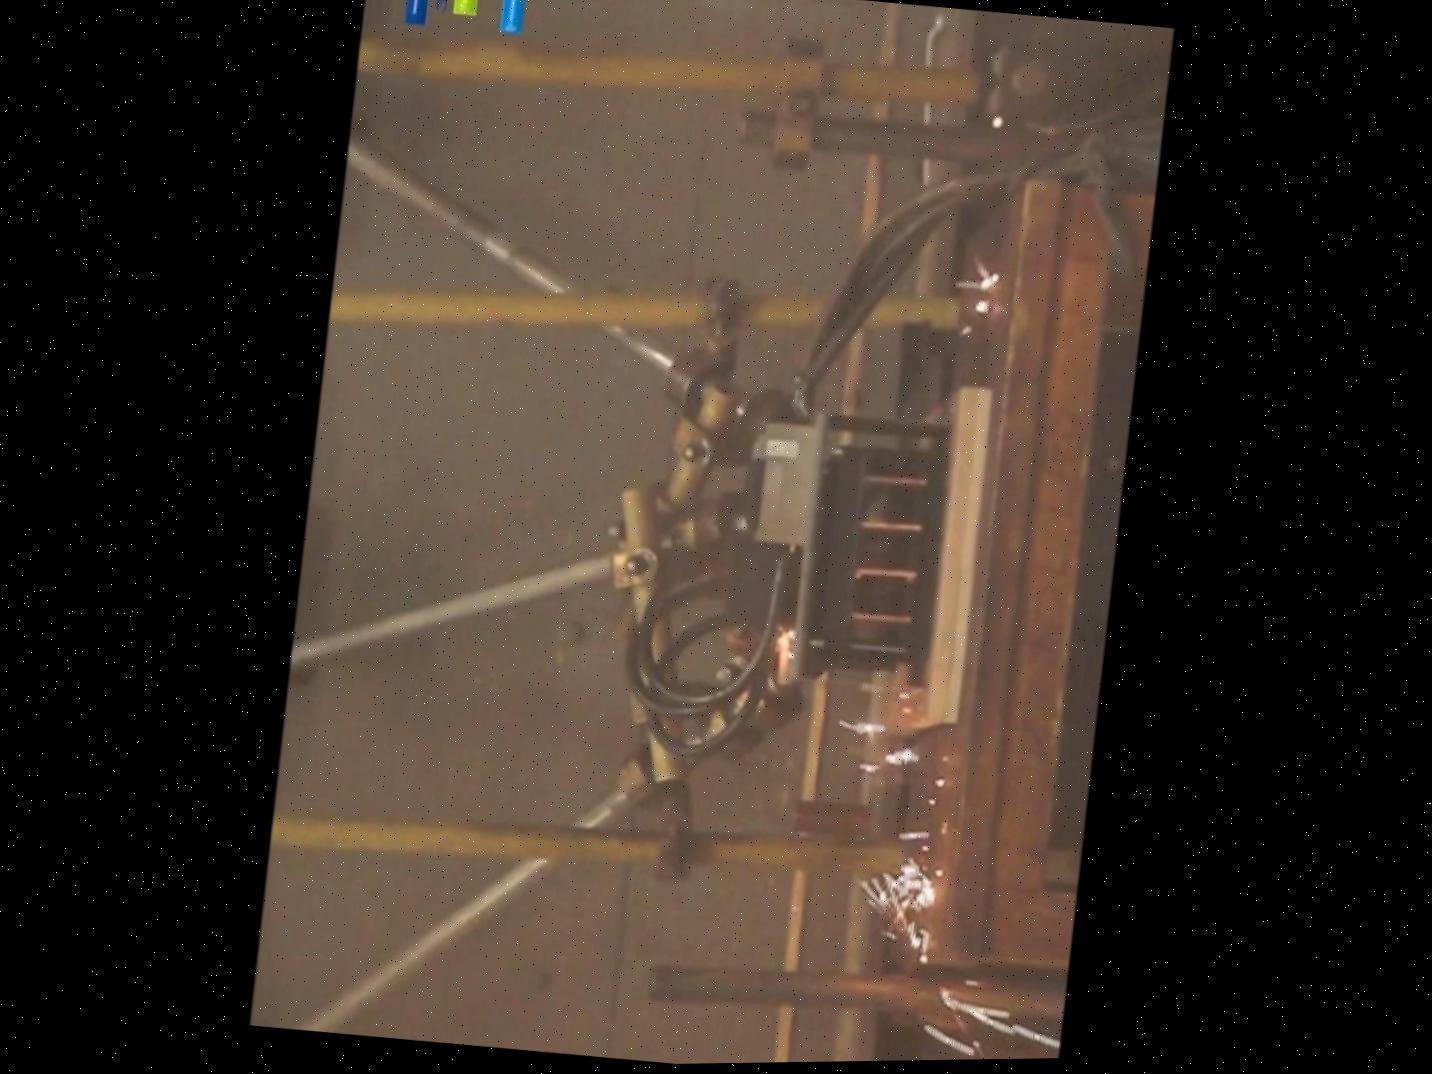fire: (637, 241, 1099, 1074)
